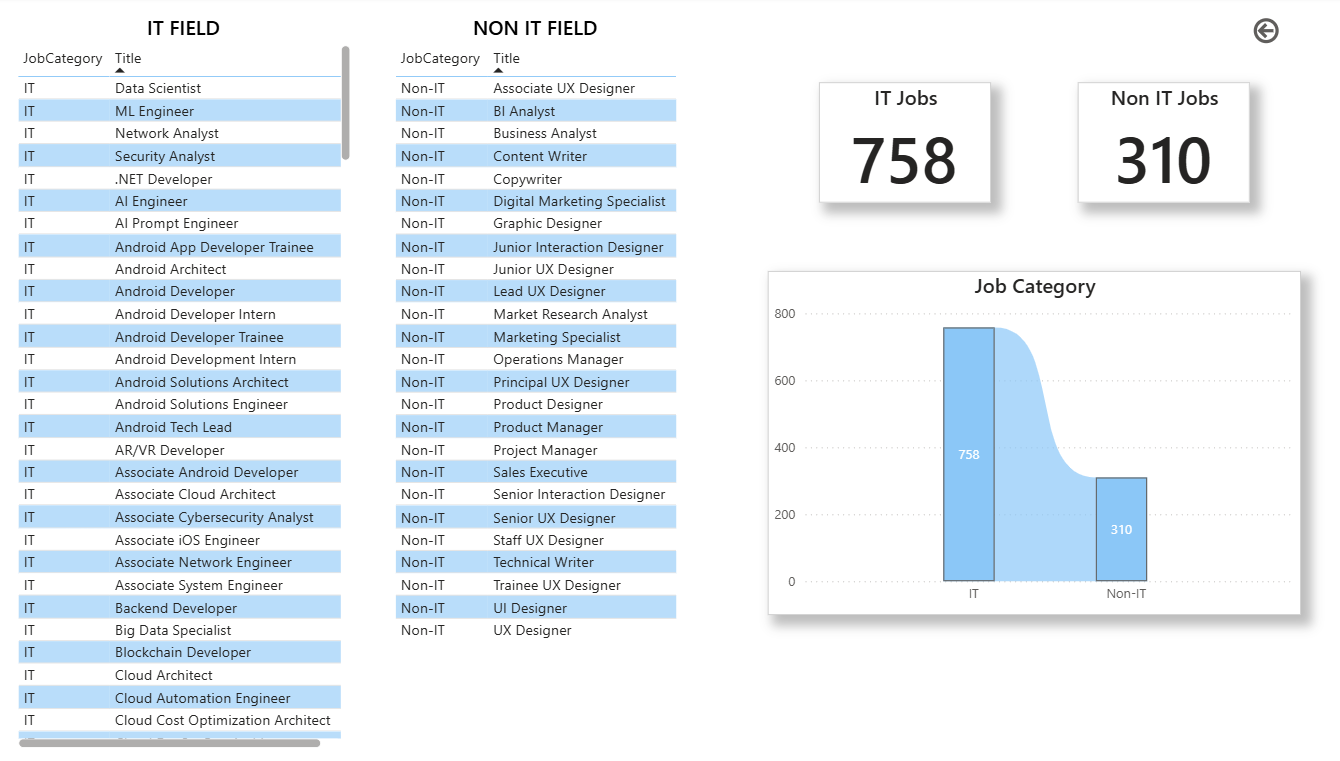

The dashboard page shown, as its layout file describes it:
{"tool":"powerbi","page":{"name":" IT and Non IT","canvas":[1280,720],"ordinal":2},"visuals":[{"type":"tableEx","title":"IT FIELD","fields":{"Values":["FactJobPostings.JobCategory","FactJobPostings.Title"]},"box":[16,16,320,688],"z":0},{"type":"tableEx","title":"NON IT FIELD","fields":{"Values":["FactJobPostings.JobCategory","FactJobPostings.Title"]},"box":[368,16,272,688],"z":1000},{"type":"actionButton","box":[1168,16,32,32],"z":2000},{"type":"ribbonChart","title":"Job Category","fields":{"Category":["FactJobPostings.JobCategory"],"Y":["FactJobPostings.Total Jobs"]},"box":[720,256,496,320],"z":3000},{"type":"card","title":"IT Jobs","fields":{"Values":["CountNonNull(FactJobPostings.JobCategory)"]},"box":[768,80,160,112],"z":4000},{"type":"card","title":"Non IT Jobs","fields":{"Values":["CountNonNull(FactJobPostings.JobCategory)"]},"box":[1008,80,160,112],"z":5000}]}

Visuals, with their boxes in screenshot pixels (x1, y1, x2, y2), scaled from the page's 1280x720 canvas onto the 1340x761 screenshot:
"IT FIELD" tableEx: region(17, 17, 352, 744)
"NON IT FIELD" tableEx: region(385, 17, 670, 744)
actionButton: region(1223, 17, 1256, 51)
"Job Category" ribbonChart: region(754, 271, 1273, 609)
"IT Jobs" card: region(804, 85, 972, 203)
"Non IT Jobs" card: region(1055, 85, 1223, 203)
